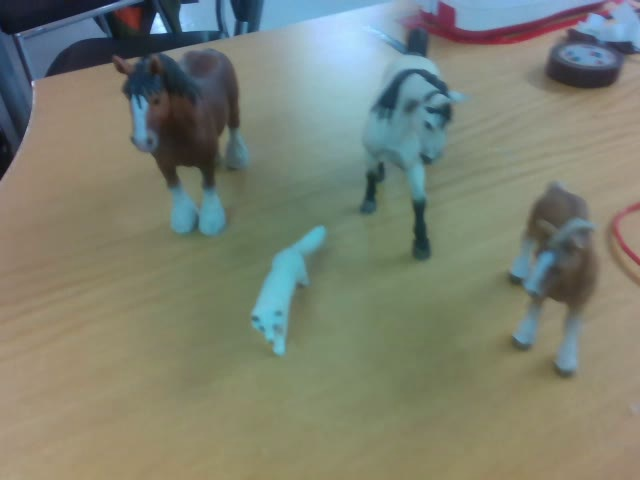toy: (109, 48, 246, 235), (362, 26, 464, 261), (511, 181, 600, 378), (249, 226, 327, 358)
